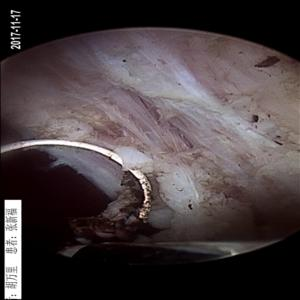film: (91, 38, 297, 221)
